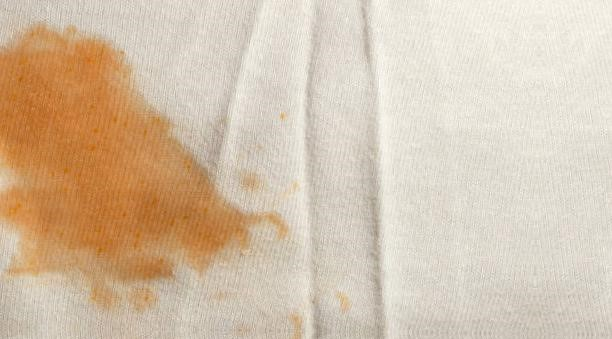stain: (1, 17, 291, 319), (332, 284, 355, 313), (286, 307, 305, 339)
